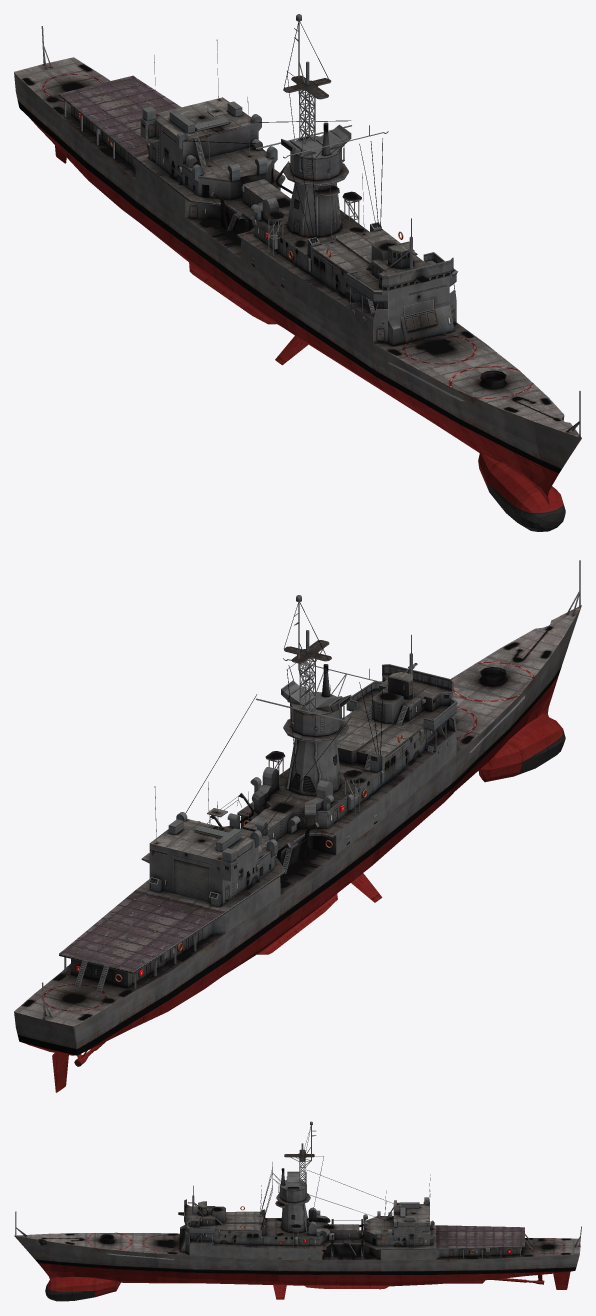
Rendered from jyjhwj.gltf.
3 views of the same model, one above another, from view 1: azimuth 30°, elevation 25°; view 2: azimuth 150°, elevation 25°; view 3: azimuth 270°, elevation 25° (orthographic). The views are drawn at different scales.
Parts seen in each view (by area): view 1: JYJ_HWJ; view 2: JYJ_HWJ; view 3: JYJ_HWJ.
Part boxes in pixels (left/top/right/bottom): JYJ_HWJ: left=14, top=14, right=581, bottom=531; JYJ_HWJ: left=14, top=560, right=581, bottom=1092; JYJ_HWJ: left=14, top=1121, right=581, bottom=1301.
Bounding box in the file's own units: 2.24 × 6.86 × 19.83.
1 material, 1 textured.
